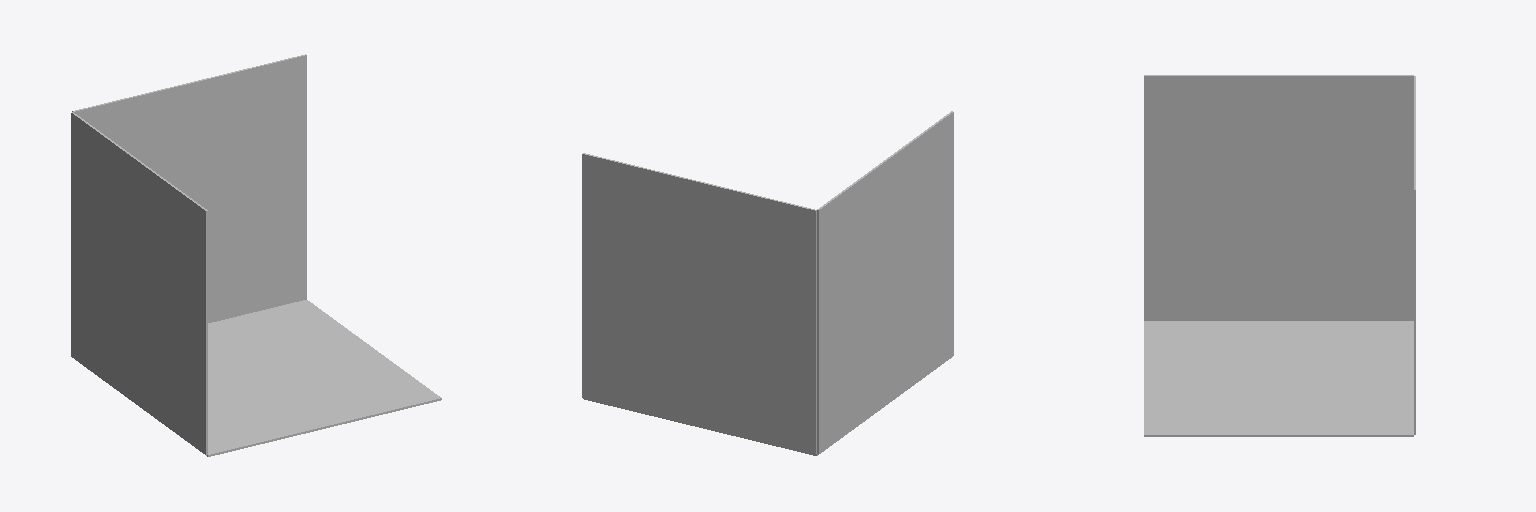
Rendered from room.obj.
The picture shows the model from 3 angles: view 1: azimuth 30°, elevation 25°; view 2: azimuth 150°, elevation 25°; view 3: azimuth 270°, elevation 25°; orthographic projection.
Parts seen in each view (by area): view 1: Cube.002, Cube.001, Cube; view 2: Cube.001, Cube.002; view 3: Cube.002, Cube, Cube.001.
Part boxes in pixels (x1,y1,x2,y2): Cube.002: (71,112,207,455); Cube.001: (72,54,306,322); Cube: (84,300,441,456); Cube.001: (582,153,816,454); Cube.002: (817,111,953,454); Cube.002: (1144,75,1413,320); Cube: (1144,321,1413,436); Cube.001: (1414,76,1415,434).
Size of the model in its own units: 23.76 by 23.76 by 23.76.